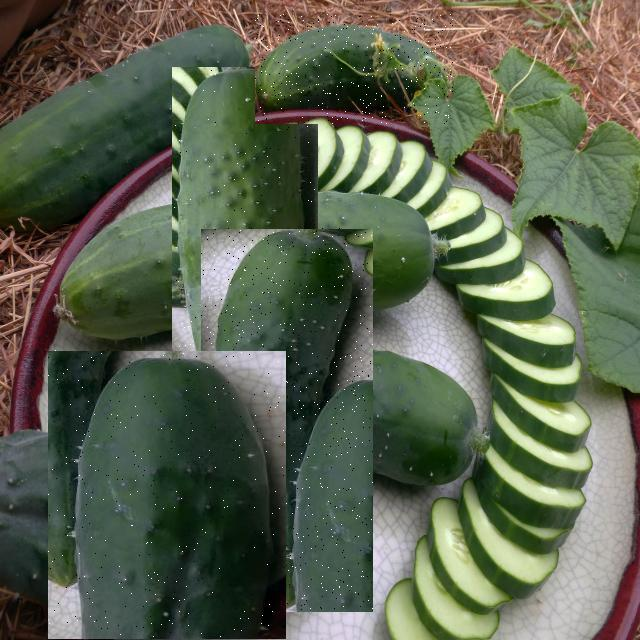Cucumber: (77, 342, 266, 640), (2, 24, 246, 234), (258, 21, 450, 113), (60, 204, 176, 340)
